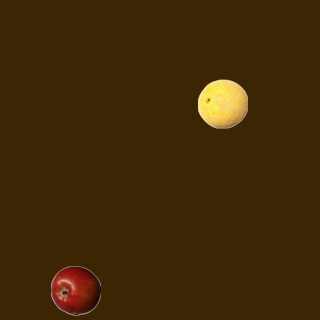Apple Braeburn: (50, 265, 100, 315)
Cantaloupe 1: (197, 78, 247, 128)
